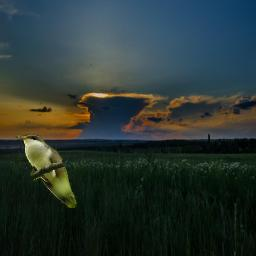Cuckoo: (15, 134, 77, 208)
